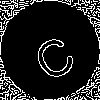C: (25, 25, 80, 84)
